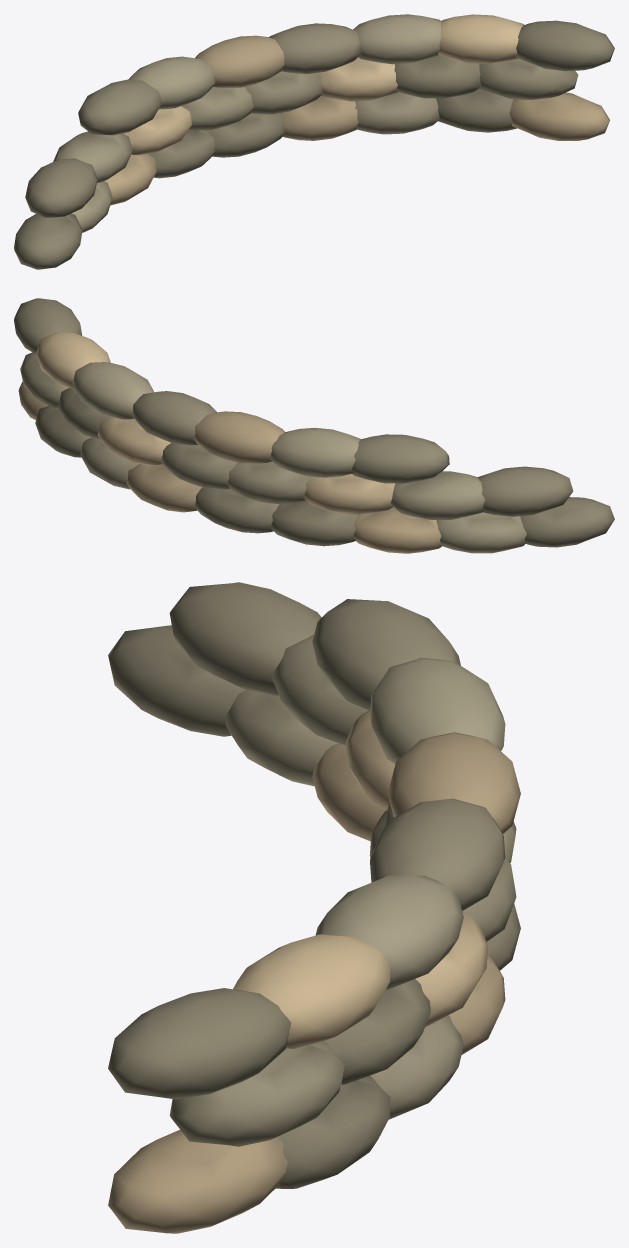
The model's file is sandbags_a.glb.
The picture shows the model from 3 angles, top to bottom: view 1: azimuth 30°, elevation 25°; view 2: azimuth 150°, elevation 25°; view 3: azimuth 270°, elevation 25°; orthographic projection. The views are drawn at different scales.
Visible parts, largest first — view 1: Surface; view 2: Surface; view 3: Surface.
Boxes of the visible parts, <box> form: Surface: <box>14,14,614,269</box>; Surface: <box>14,298,614,553</box>; Surface: <box>108,582,520,1233</box>.
Size of the model in its own units: 7.57 by 1.35 by 2.29.
